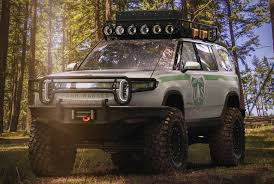Vehicle: (28, 10, 251, 175)
